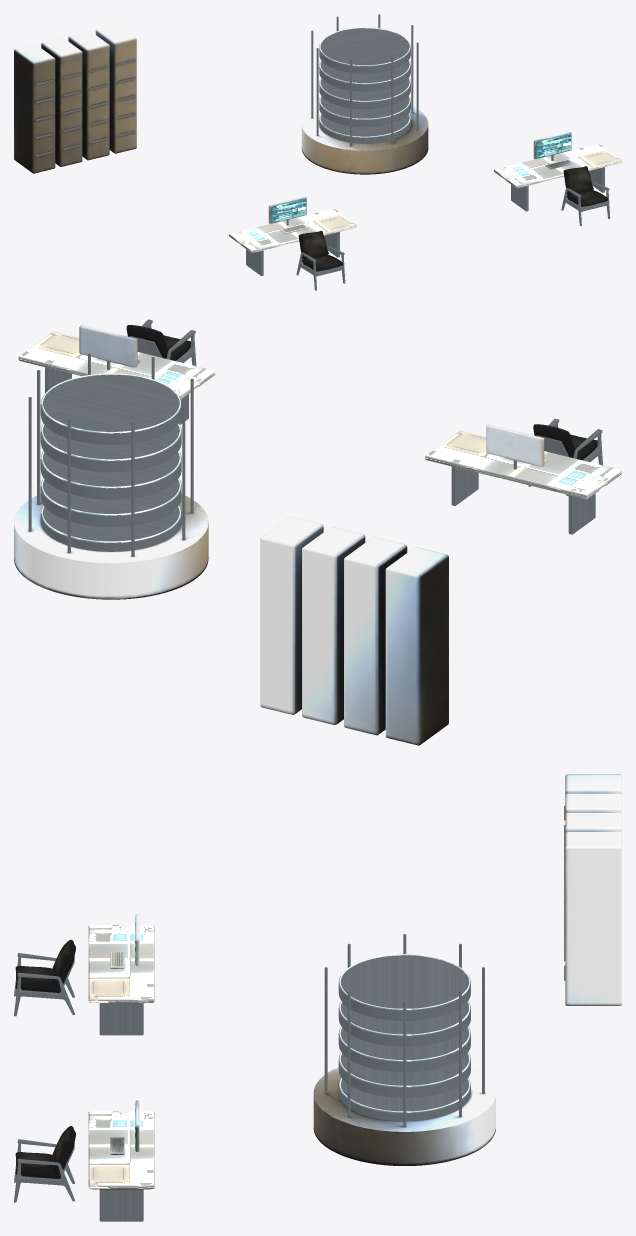
File: technology.glb
3 renders of one model, top to bottom at view 1: azimuth 30°, elevation 25°; view 2: azimuth 150°, elevation 25°; view 3: azimuth 270°, elevation 25°, orthographic. The views are drawn at different scales.
Parts seen in each view (by area): view 1: Static_technology; view 2: Static_technology; view 3: Static_technology.
Part boxes in pixels (x1,y1,x2,y2): Static_technology: (14,14,621,290); Static_technology: (14,319,621,745); Static_technology: (14,774,621,1221).
Size of the model in its own units: 11.2 by 2.8 by 9.66.
Materials: 6 (3 with a texture image).
